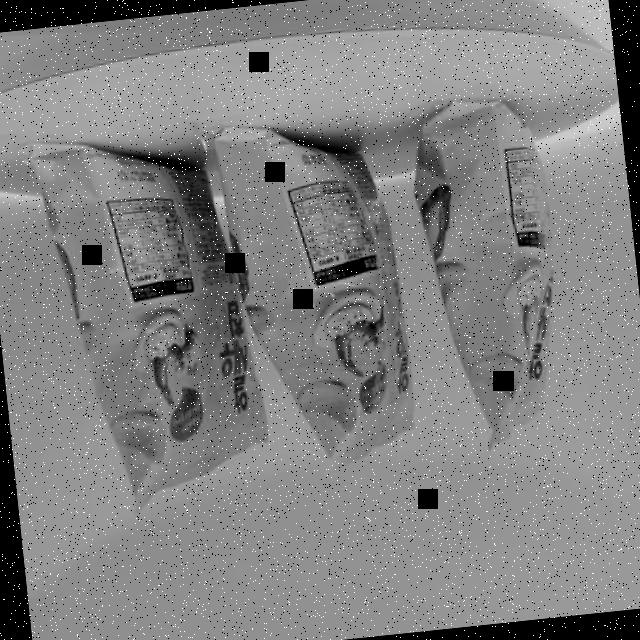snack_bag: (6, 79, 596, 515)
